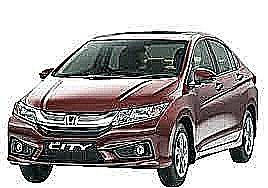Car hood: (20, 76, 182, 111)
Fender - -F-L-: (166, 76, 202, 166)
Front bumper: (5, 114, 175, 172)
Headlight - -L-: (109, 100, 172, 130)
Headlight - -R-: (11, 99, 42, 129)
Passenger-s door - -F-L-: (192, 39, 225, 150)
Passenger-s door - -R-L-: (211, 37, 248, 143), (236, 63, 254, 154)
Rear bumper: (247, 86, 265, 124)
Side bumper - -L-: (193, 131, 246, 162)
Side mirror - -L-: (190, 65, 221, 87)
Side mirror - -R-: (36, 65, 58, 83)
